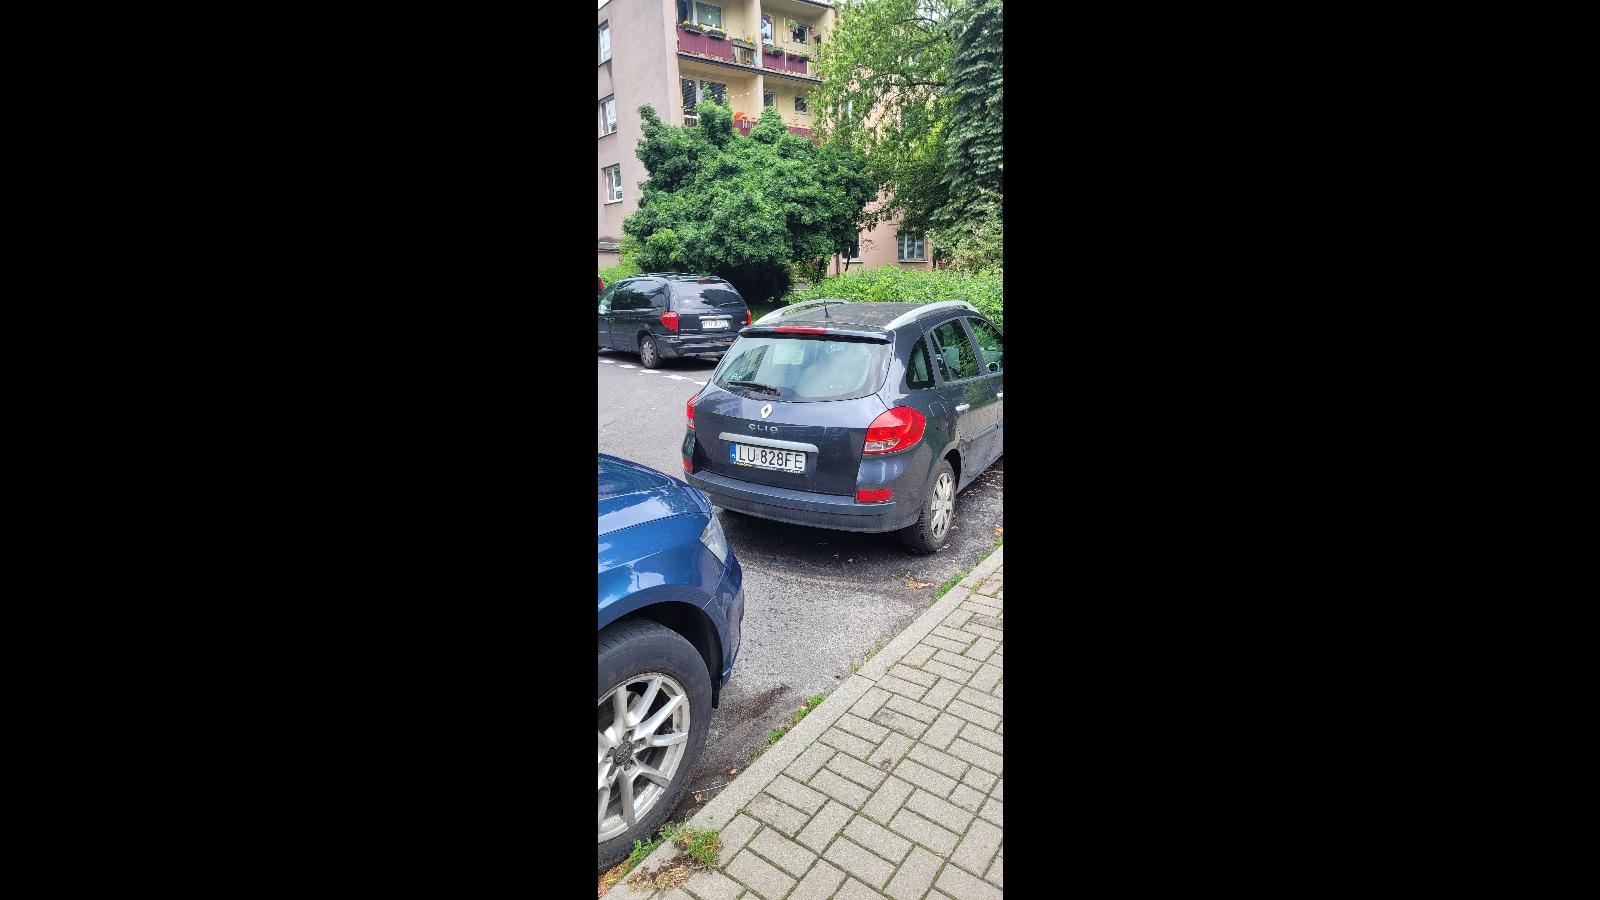plates: (728, 442, 807, 476)
